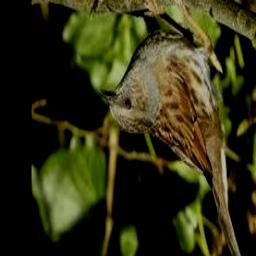Sparrow: (100, 0, 245, 256)
